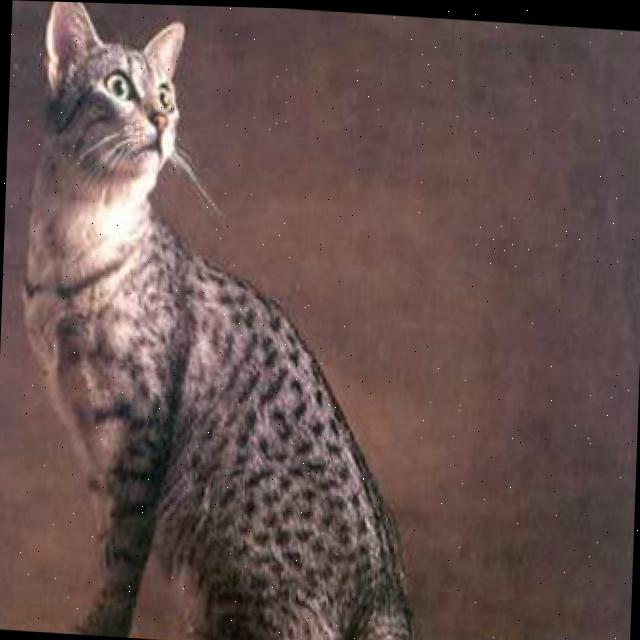Egyptian Mau: (3, 0, 599, 640)
